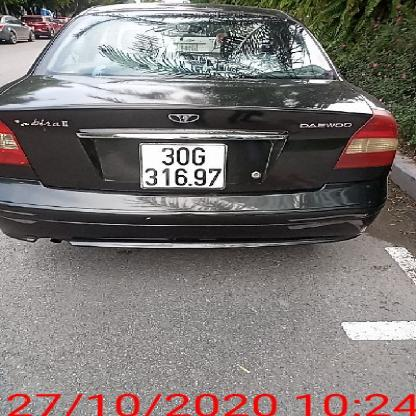biensoxe: (137, 139, 228, 193)
